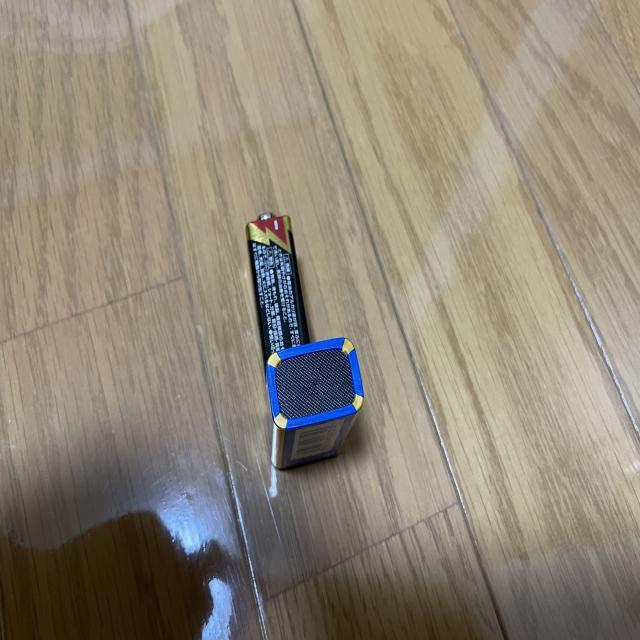9V: (266, 339, 365, 469), (244, 210, 312, 386)
